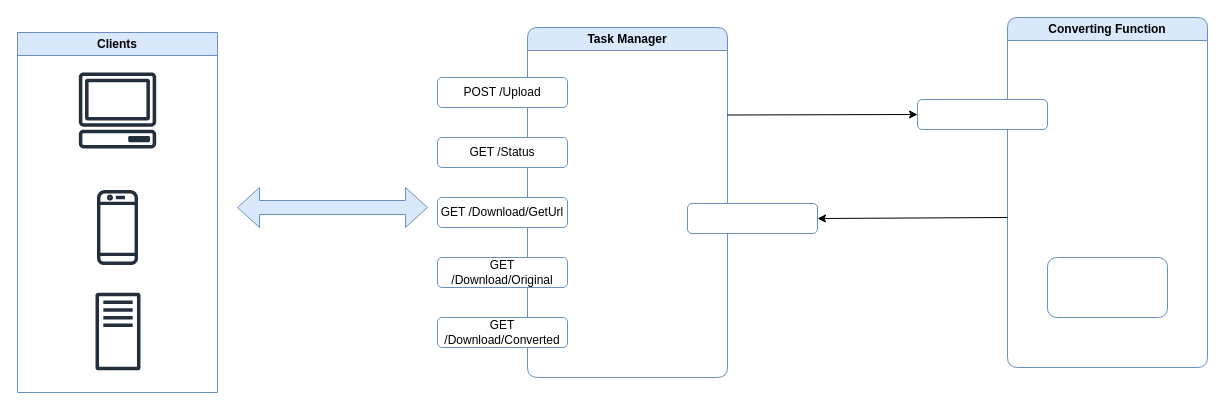
The diagram is 1225 pixels wide and 410 high, and some of its shapes have lost their labels. The centre of each missing label's shape, as x and y in pixels:
"ConverterEmulator" goes at point 1107,287.
"POST /Converter" goes at point 982,114.
"PUT /Status" goes at point 752,218.
